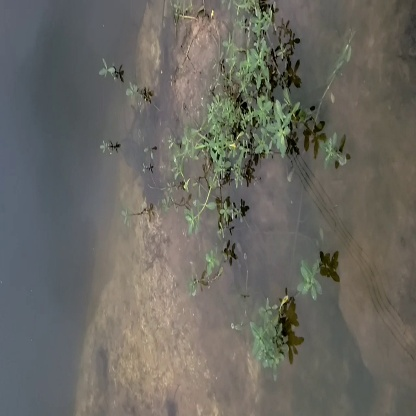grass: (198, 95, 305, 178)
